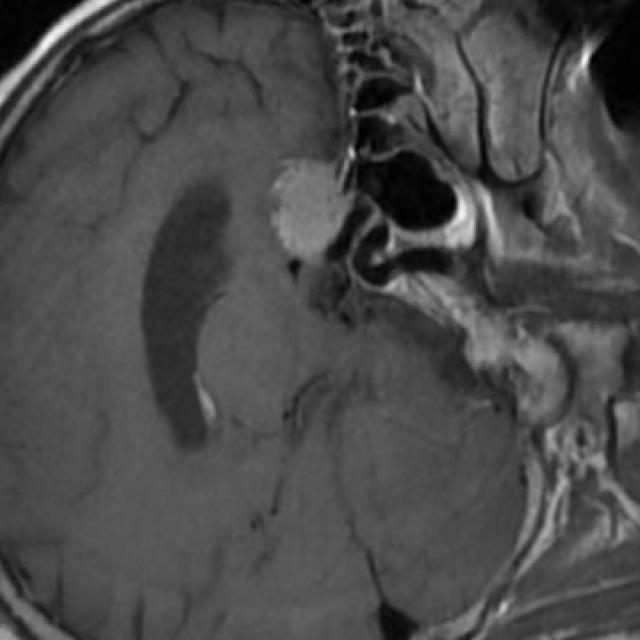pituitary: (271, 160, 344, 260)
